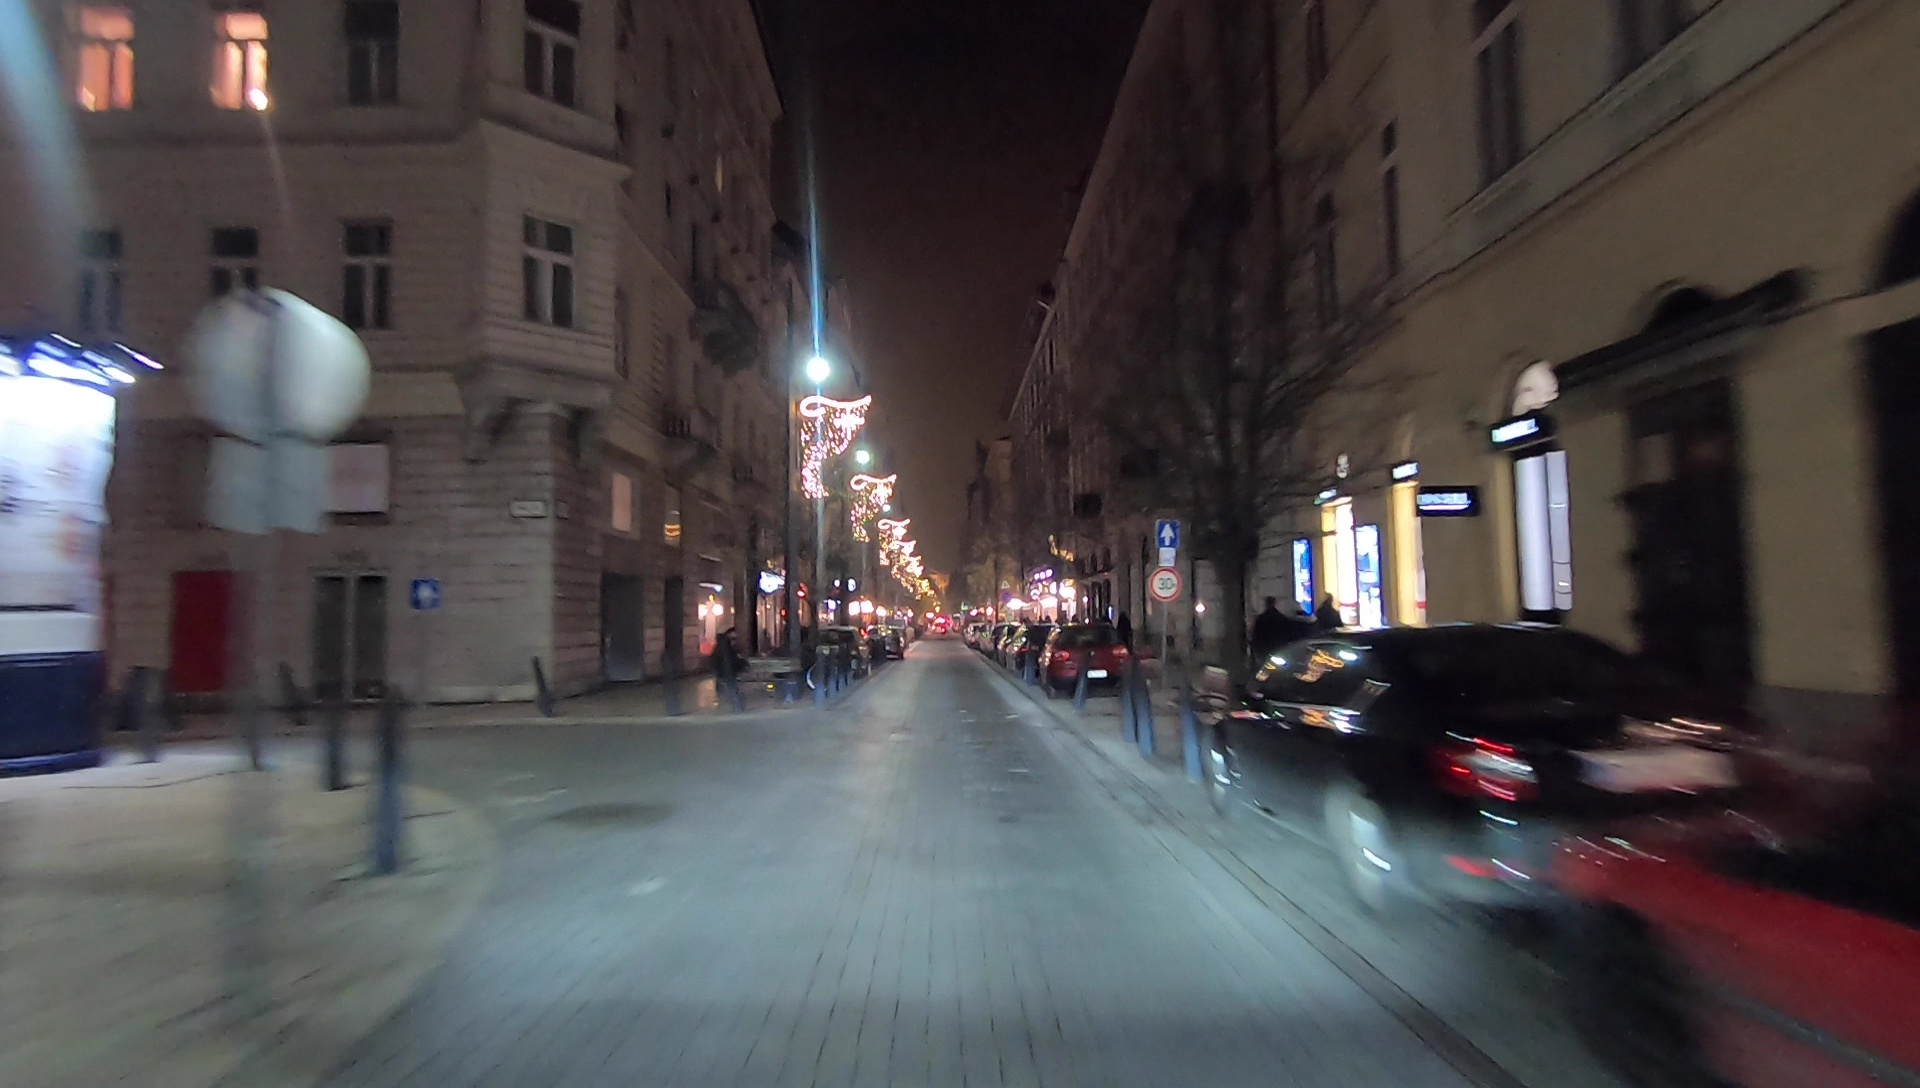person: (1302, 599, 1345, 691), (1254, 600, 1284, 686)
